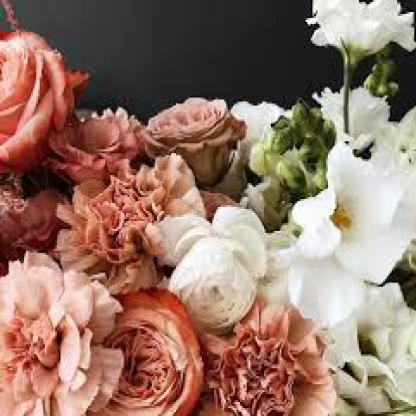Rose-Mawar: (4, 25, 412, 415)
